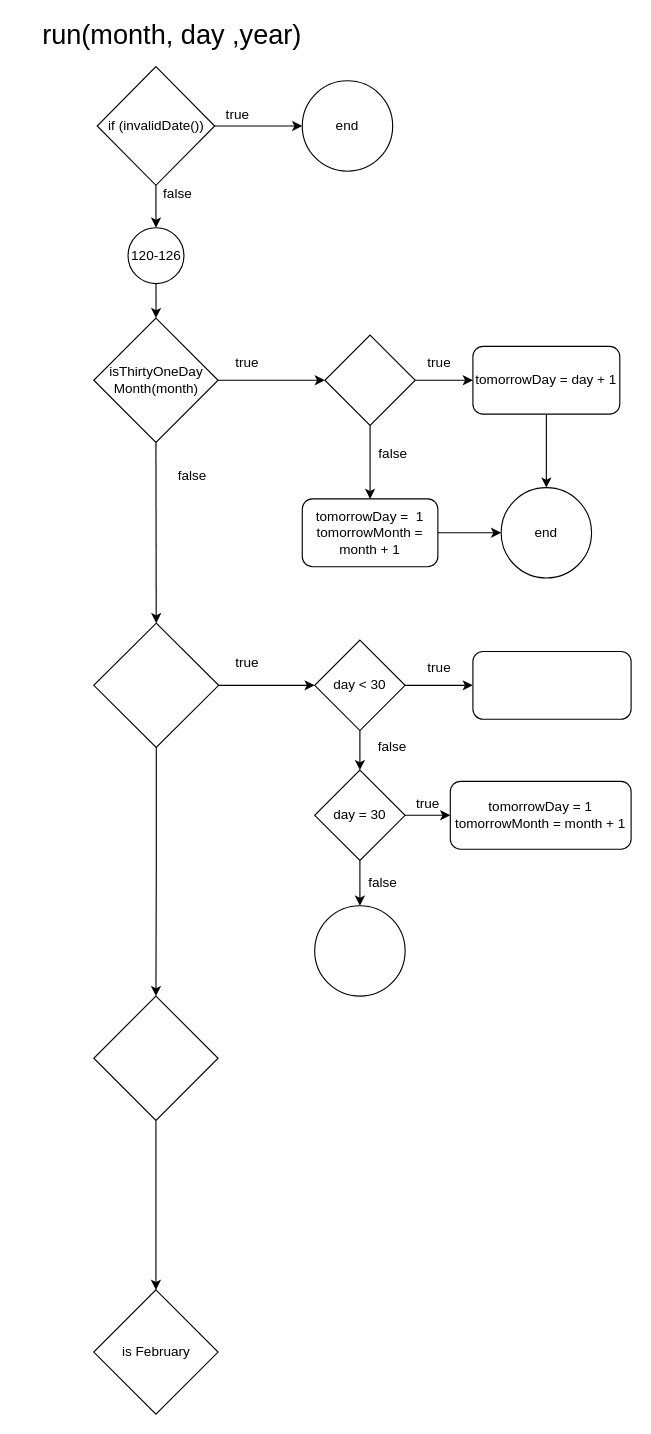
This 651x1434 diagram has some shape labels left out. The centre of each missing label's shape, as x and y in pixels:
"end Invalid Input Date" goes at point (359, 950).
"if day < 31" goes at point (369, 379).
"is December" goes at point (155, 1057).
"isThirtyDayMonth" goes at point (156, 684).
"tommorowDay = day + 1" goes at point (551, 684).
